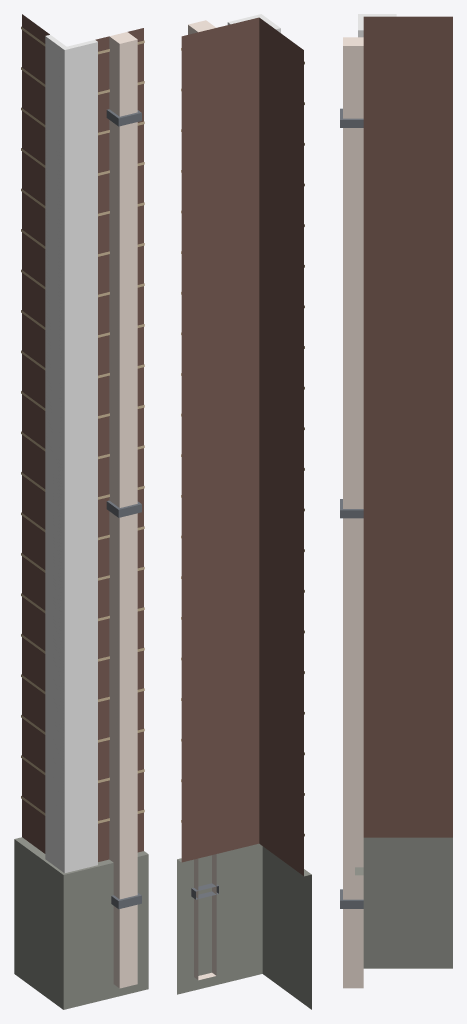
Rendered from base-c1_close.fbx.
The picture shows the model from 3 angles, left to right: view 1: azimuth 30°, elevation 25°; view 2: azimuth 210°, elevation 25°; view 3: azimuth 270°, elevation 25°; orthographic projection.
Visible parts, largest first — view 1: a2000s2/0/base-c1_close; view 2: a2000s2/0/base-c1_close; view 3: a2000s2/0/base-c1_close.
Part boxes in pixels (box(x1,y1,x2,y2)): a2000s2/0/base-c1_close: box(14, 14, 148, 1009); a2000s2/0/base-c1_close: box(177, 14, 311, 1009); a2000s2/0/base-c1_close: box(340, 14, 452, 988).
Size of the model in its own units: 0.33 by 3.55 by 0.38.
